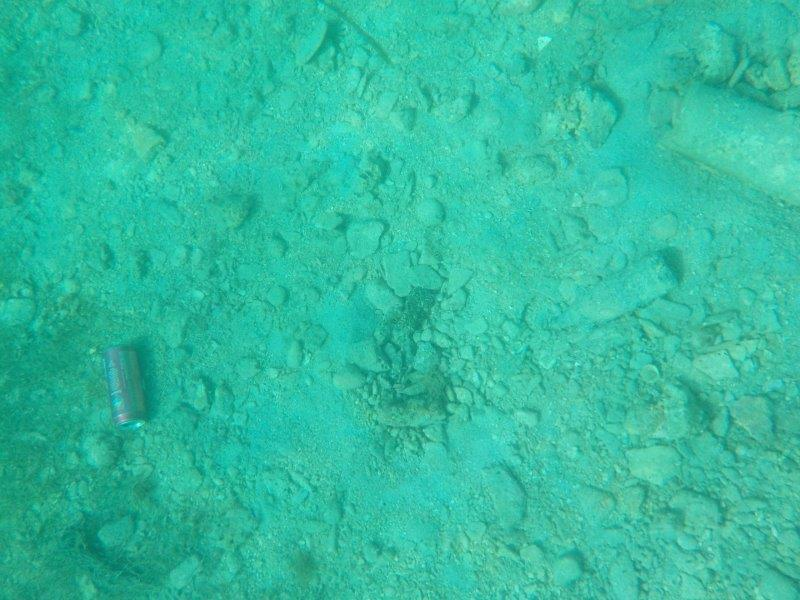bottle: (539, 248, 680, 340)
